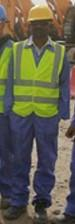hat: (23, 1, 60, 43), (1, 1, 12, 42)
vest: (17, 38, 75, 139), (1, 32, 19, 127)
